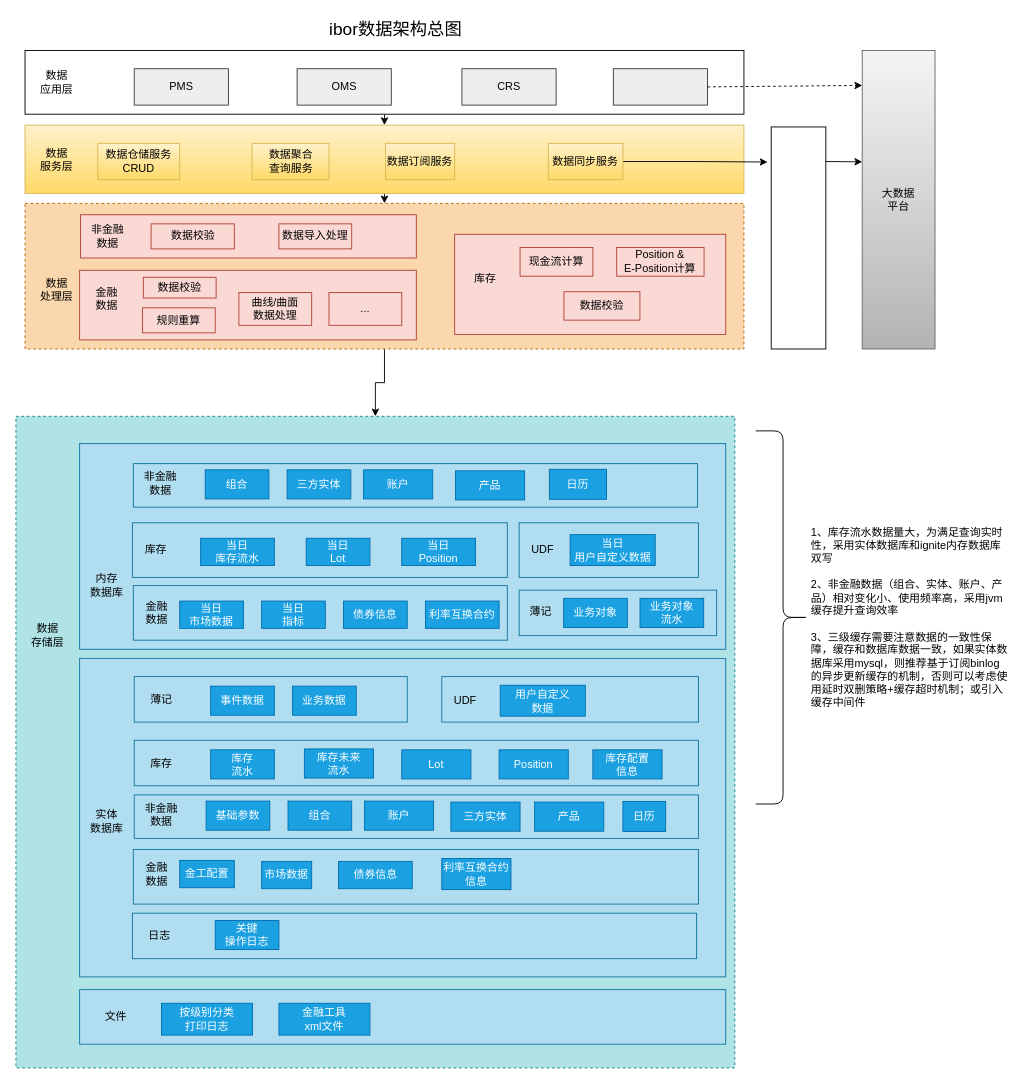
The diagram is 1026 pixels wide and 1084 high, and some of its shapes have lost their labels. Each missing label, with the centre of its shape:
"数据 同步 服务 DataGo" goes at [798,237].
"数据分析 报表" goes at [660,86].
